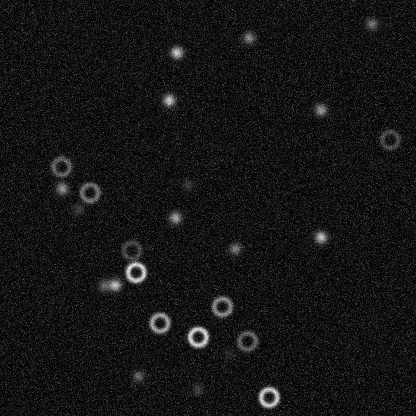Ring: (209, 294, 233, 318), (119, 238, 143, 262), (147, 310, 171, 334), (235, 328, 259, 352), (185, 324, 209, 348), (377, 127, 401, 151), (256, 385, 280, 409), (123, 260, 147, 284), (49, 154, 73, 178), (77, 180, 101, 204)
Spot: (227, 240, 243, 256), (106, 276, 122, 292), (160, 92, 176, 108), (312, 101, 328, 117), (53, 180, 69, 196), (130, 367, 146, 383), (179, 176, 195, 192), (168, 44, 184, 60), (167, 209, 183, 225), (240, 29, 256, 45), (95, 277, 111, 293), (363, 15, 379, 31), (189, 381, 205, 397), (220, 345, 236, 361), (70, 201, 86, 217), (312, 229, 328, 245)
